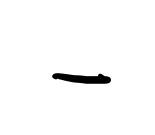minus: (48, 67, 111, 86)
